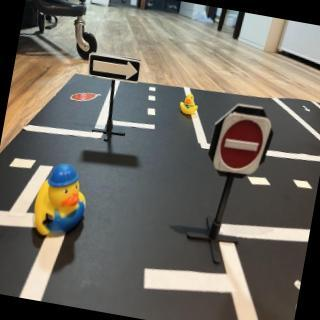duck_regular: (179, 91, 203, 118)
duck_specialty: (29, 161, 94, 246)
sign_noentry: (215, 113, 272, 181)
sign_oneway_right: (88, 52, 144, 86)
